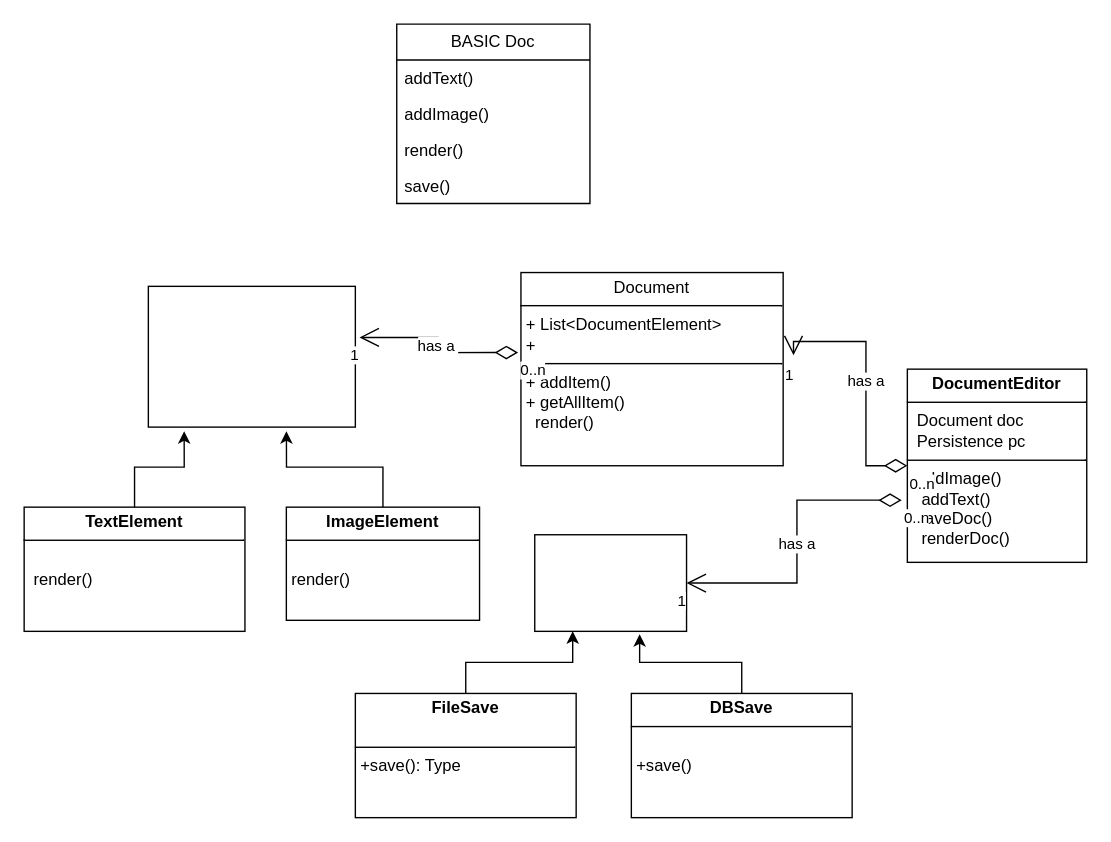
The diagram is 1111 pixels wide and 842 high, and some of its shapes have lost their labels. Each missing label, with the centre of its shape:
<<Interface>> DocumentElement + render(): void: the point at 251,356
<<Interface>> Persistence + save(): the point at 610,582
